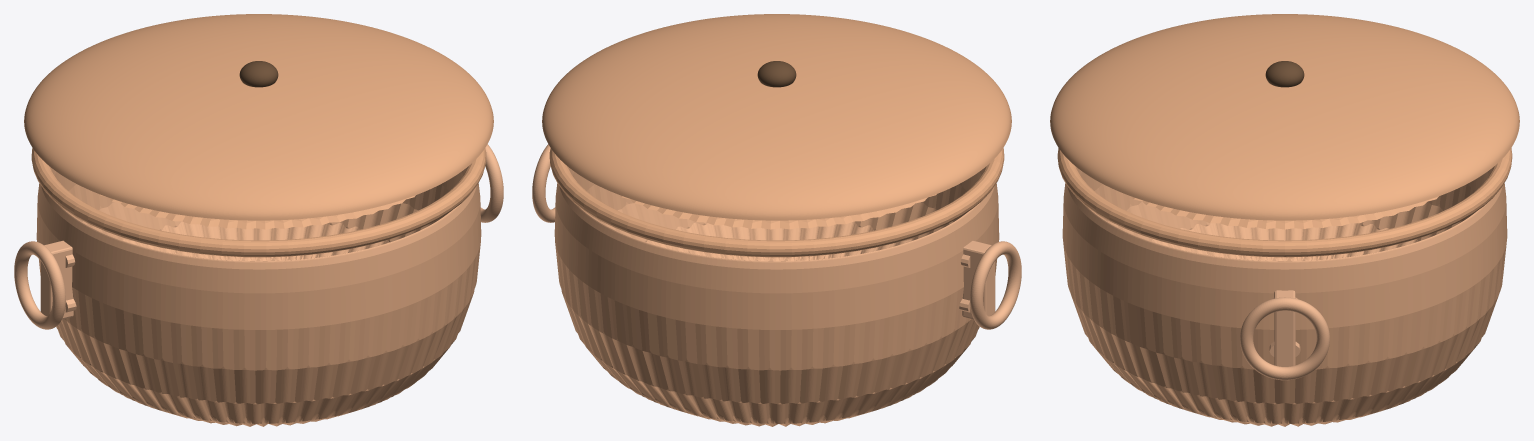
3 renders of one model, left to right at view 1: azimuth 30°, elevation 25°; view 2: azimuth 150°, elevation 25°; view 3: azimuth 270°, elevation 25°, orthographic.
Parts seen in each view (by area): view 1: Pot_Lid, Pot_Body, Pot_Rim, Pot_Handle_2, Lid_Rim, Pot_Handle_Connector_2, Pot_Handle_1, Lid_Knob_Top; view 2: Pot_Lid, Pot_Body, Pot_Rim, Pot_Handle_2, Lid_Rim, Pot_Handle_Connector_2, Pot_Handle_1, Lid_Knob_Top; view 3: Pot_Lid, Pot_Body, Pot_Rim, Pot_Handle_1, Lid_Rim, Pot_Handle_Connector_1, Lid_Knob_Top.
Boxes of the visible parts, <box> form: Pot_Lid: <box>24,14,493,220</box>; Pot_Body: <box>36,167,481,426</box>; Pot_Rim: <box>31,148,486,257</box>; Pot_Handle_2: <box>14,241,65,329</box>; Lid_Rim: <box>99,194,415,229</box>; Pot_Handle_Connector_2: <box>40,240,73,319</box>; Pot_Handle_1: <box>480,144,503,222</box>; Lid_Knob_Top: <box>239,61,278,87</box>; Pot_Lid: <box>542,14,1011,220</box>; Pot_Body: <box>554,167,999,426</box>; Pot_Rim: <box>549,148,1004,257</box>; Pot_Handle_2: <box>970,241,1021,329</box>; Lid_Rim: <box>620,194,936,229</box>; Pot_Handle_Connector_2: <box>962,240,995,319</box>; Pot_Handle_1: <box>532,144,555,222</box>; Lid_Knob_Top: <box>757,61,796,87</box>; Pot_Lid: <box>1050,14,1519,220</box>; Pot_Body: <box>1062,167,1507,426</box>; Pot_Rim: <box>1057,148,1512,257</box>; Pot_Handle_1: <box>1240,297,1329,380</box>; Lid_Rim: <box>1131,196,1438,229</box>; Pot_Handle_Connector_1: <box>1274,290,1295,366</box>; Lid_Knob_Top: <box>1265,61,1304,87</box>.
Bounding box in the file's own units: 0.7391 × 0.527 × 0.6689.
